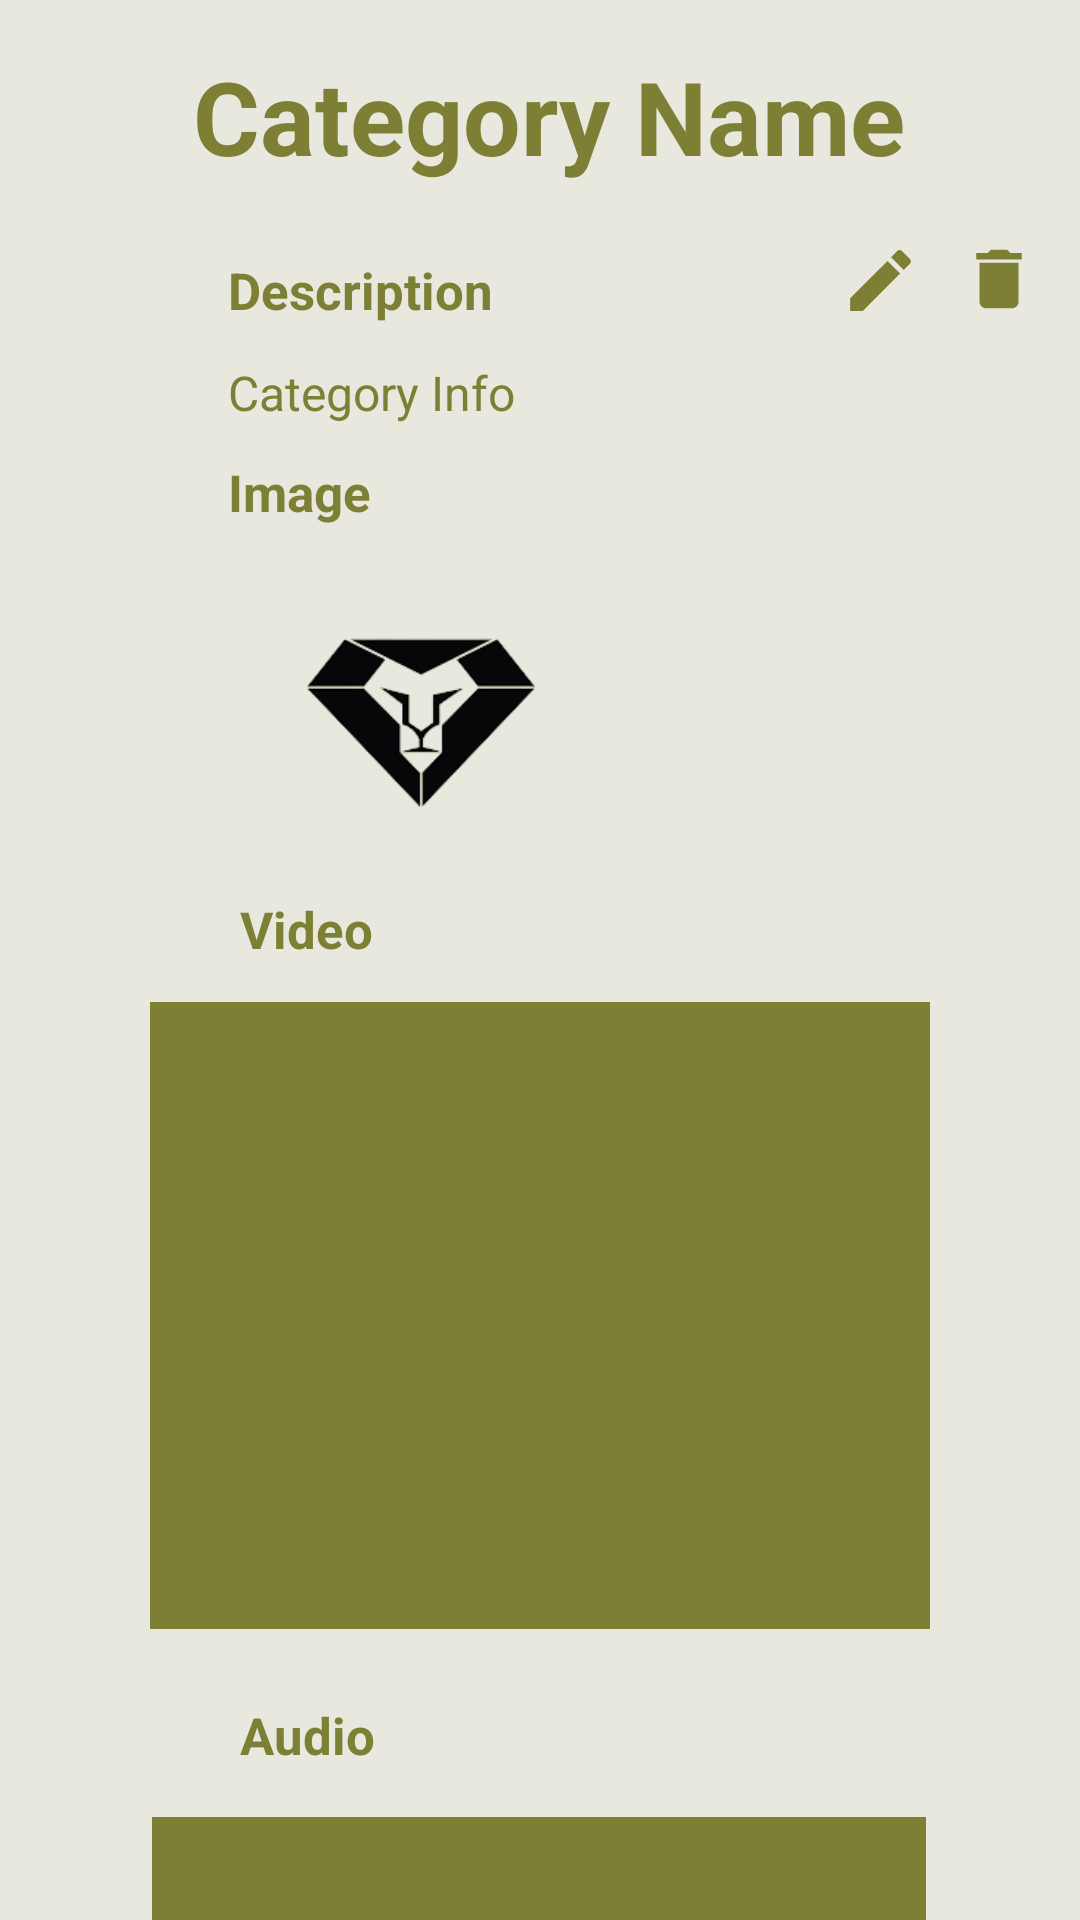

Locate icon controls on the screen. Image size 1080*1920, boxes as (x1, y1, x2, y2).
delete: (976, 249, 1022, 309)
edit: (850, 250, 911, 311)
